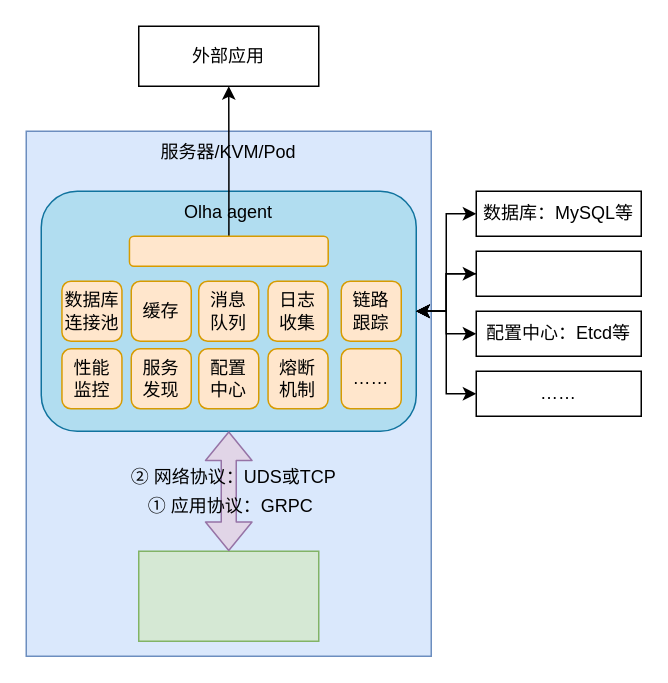
Image size: 668x683. Some labels were removed from this diagram. The shapes that lost their labels are listed below. From the top down, each one's centre as x and y in pixels, then its label:
At (228,250): "http, websocket, grpc...".
At (558,273): "缓存：Redis等".
At (228,595): "使用Olha Api规范 开发的应用".
